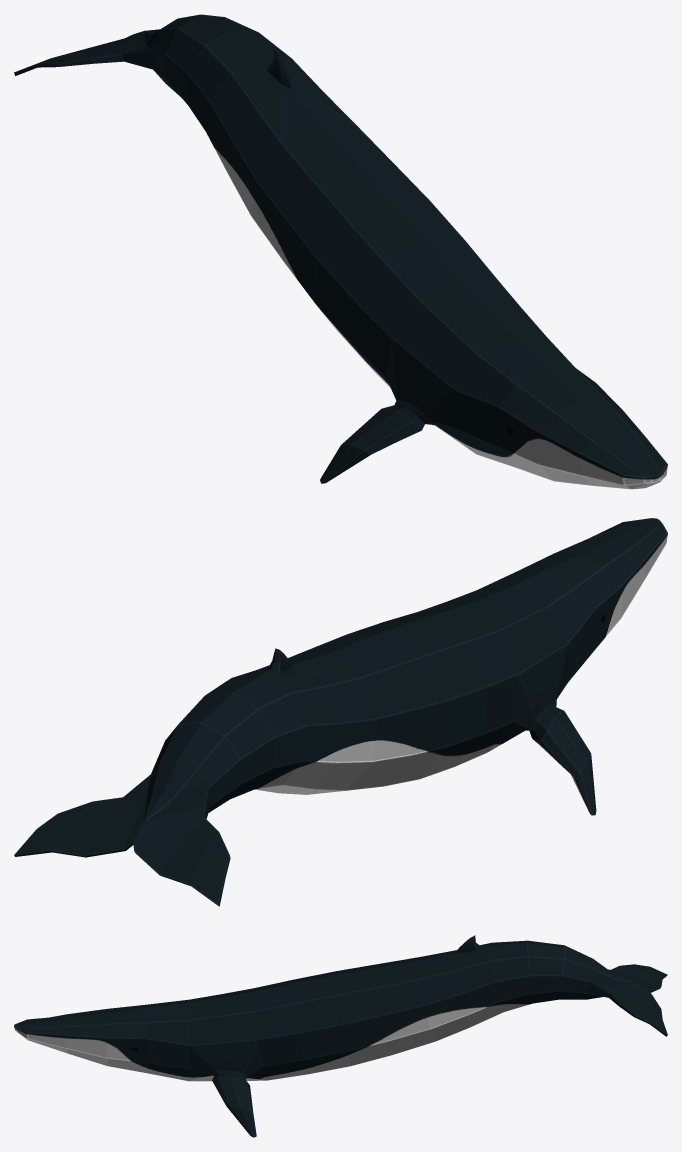
File: FinBackWhale.obj
The picture shows the model from 3 angles, top to bottom: view 1: azimuth 30°, elevation 25°; view 2: azimuth 150°, elevation 25°; view 3: azimuth 270°, elevation 25°; orthographic projection. The views are drawn at different scales.
Bounding box in the file's own units: 9.45 × 8.8 × 32.22.
Materials: 1 (1 with a texture image).
